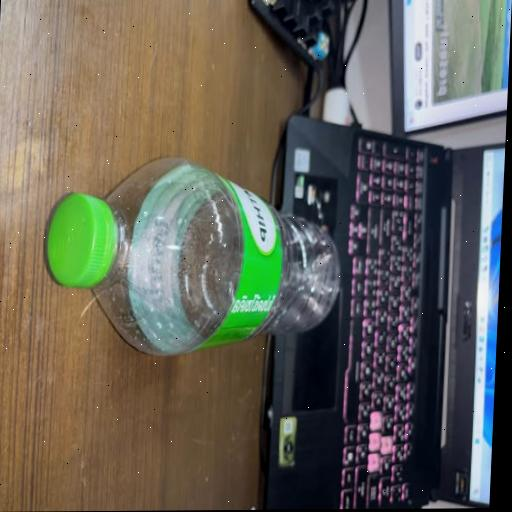ba: (32, 140, 355, 366)
